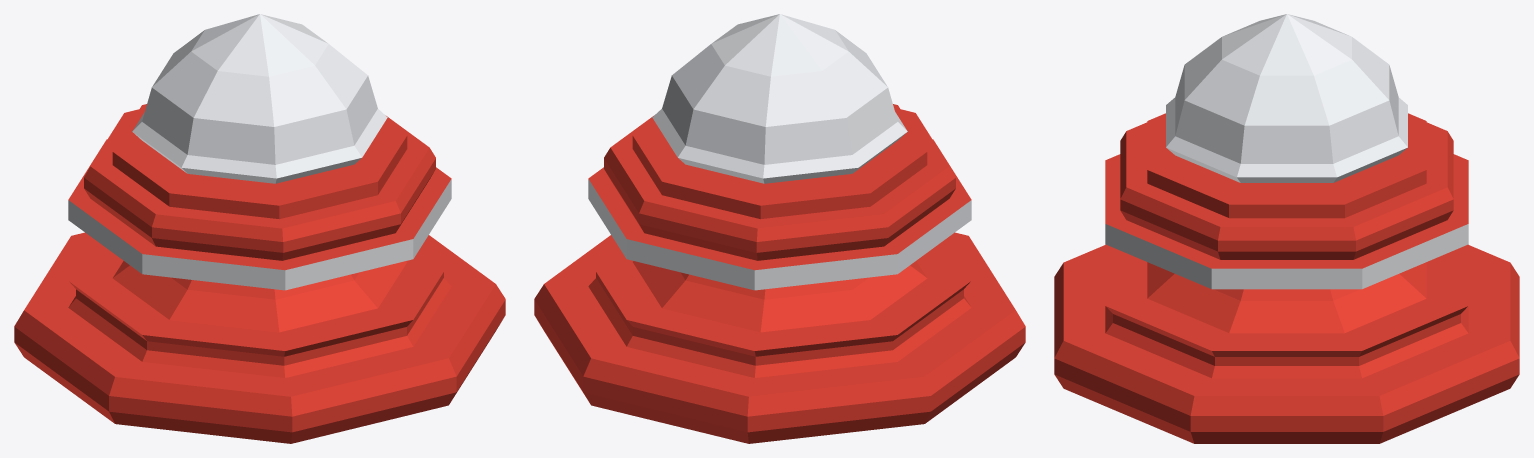
Rendered from pawn_cap-faceted.glb.
The picture shows the model from 3 angles, left to right: view 1: azimuth 30°, elevation 25°; view 2: azimuth 150°, elevation 25°; view 3: azimuth 270°, elevation 25°; orthographic projection.
Visible parts, largest first — view 1: pawn_cap-faceted; view 2: pawn_cap-faceted; view 3: pawn_cap-faceted.
Part boxes in pixels (x1,y1,x2,y2): pawn_cap-faceted: (14, 14, 505, 443); pawn_cap-faceted: (534, 14, 1025, 443); pawn_cap-faceted: (1054, 14, 1519, 443).
Bounding box in the file's own units: 0.2648 × 0.2107 × 0.2648.
